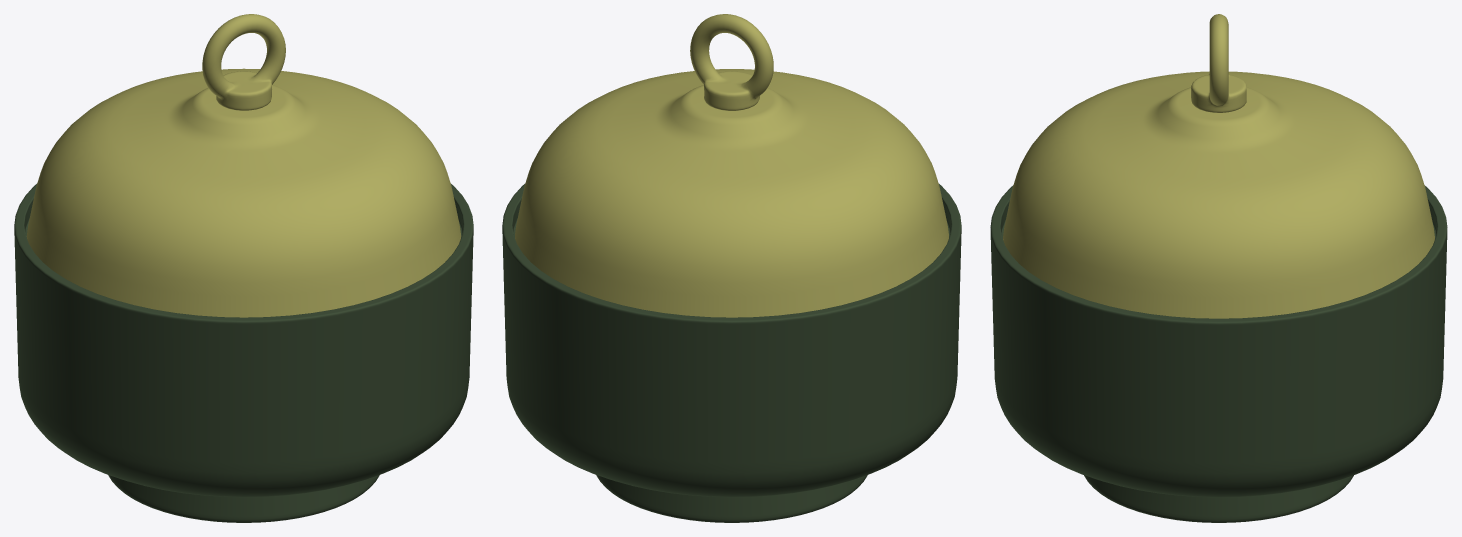
File: Incipit_Belle_Small_mat(3).fbx
The picture shows the model from 3 angles, left to right: view 1: azimuth 30°, elevation 25°; view 2: azimuth 150°, elevation 25°; view 3: azimuth 270°, elevation 25°; orthographic projection.
Visible parts, largest first — view 1: Incipit_Belle_Small_mat3; view 2: Incipit_Belle_Small_mat3; view 3: Incipit_Belle_Small_mat3.
Boxes of the visible parts, <box> form: Incipit_Belle_Small_mat3: <box>14,14,473,522</box>; Incipit_Belle_Small_mat3: <box>502,14,961,522</box>; Incipit_Belle_Small_mat3: <box>990,14,1447,522</box>.
Size of the model in its own units: 13 by 13 by 14.04.
